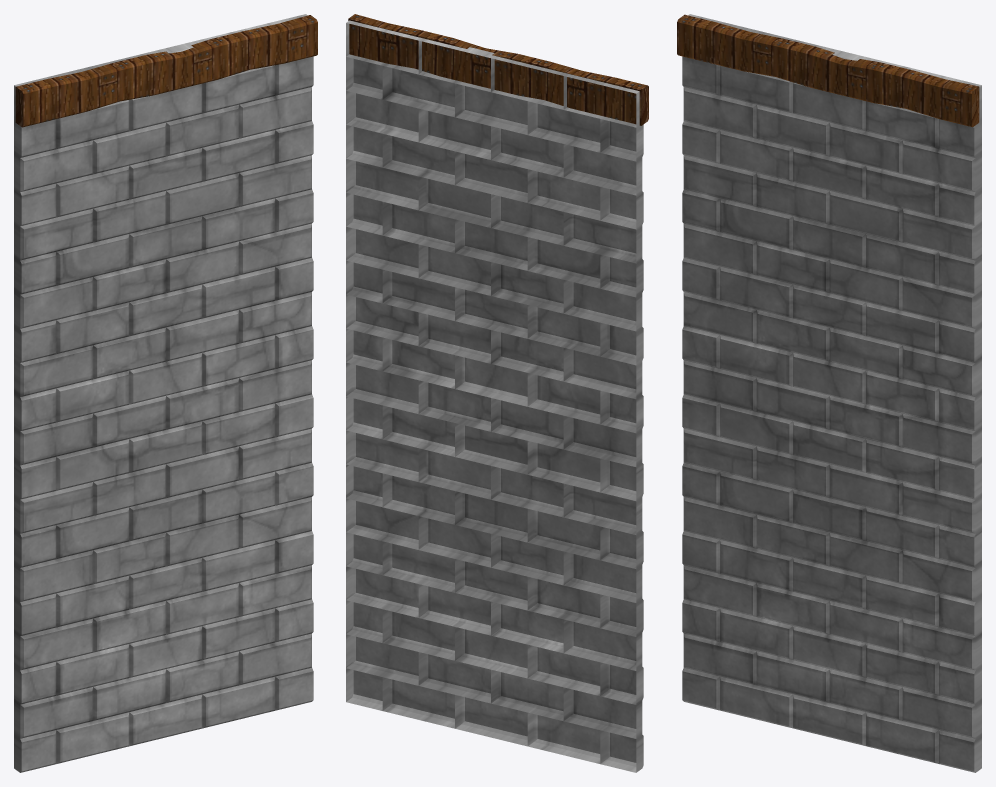
The model's file is Parede 1.1.fbx.
3 renders of one model, left to right at view 1: azimuth 30°, elevation 25°; view 2: azimuth 150°, elevation 25°; view 3: azimuth 330°, elevation 25°, orthographic.
Parts seen in each view (by area): view 1: Parede; view 2: Parede; view 3: Parede.
Boxes of the visible parts, x1,y1,x2,y2 form: Parede: (14, 14, 317, 772); Parede: (346, 14, 648, 772); Parede: (677, 14, 981, 772).
Size of the model in its own units: 751 by 1667 by 48.57.
1 material, 1 textured.
